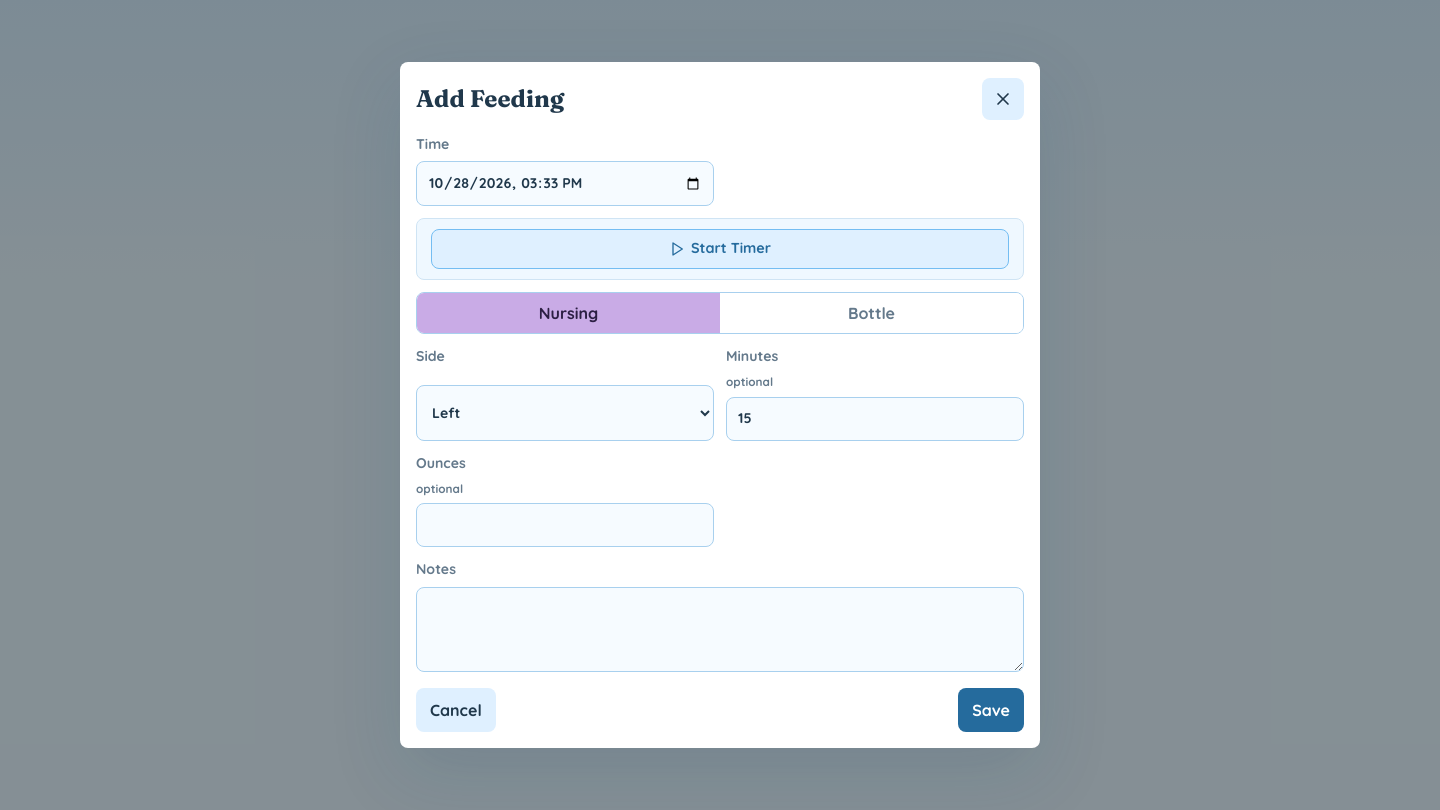
Test: QuickAddDialog › prefills a bottle from the amount saved in Care
What coordinates should you click on to do the following:
click the radio button labelled "Bottle"
I would click on:
 (872, 313)
Its box is top-left (720, 293), bottom-right (1023, 333).
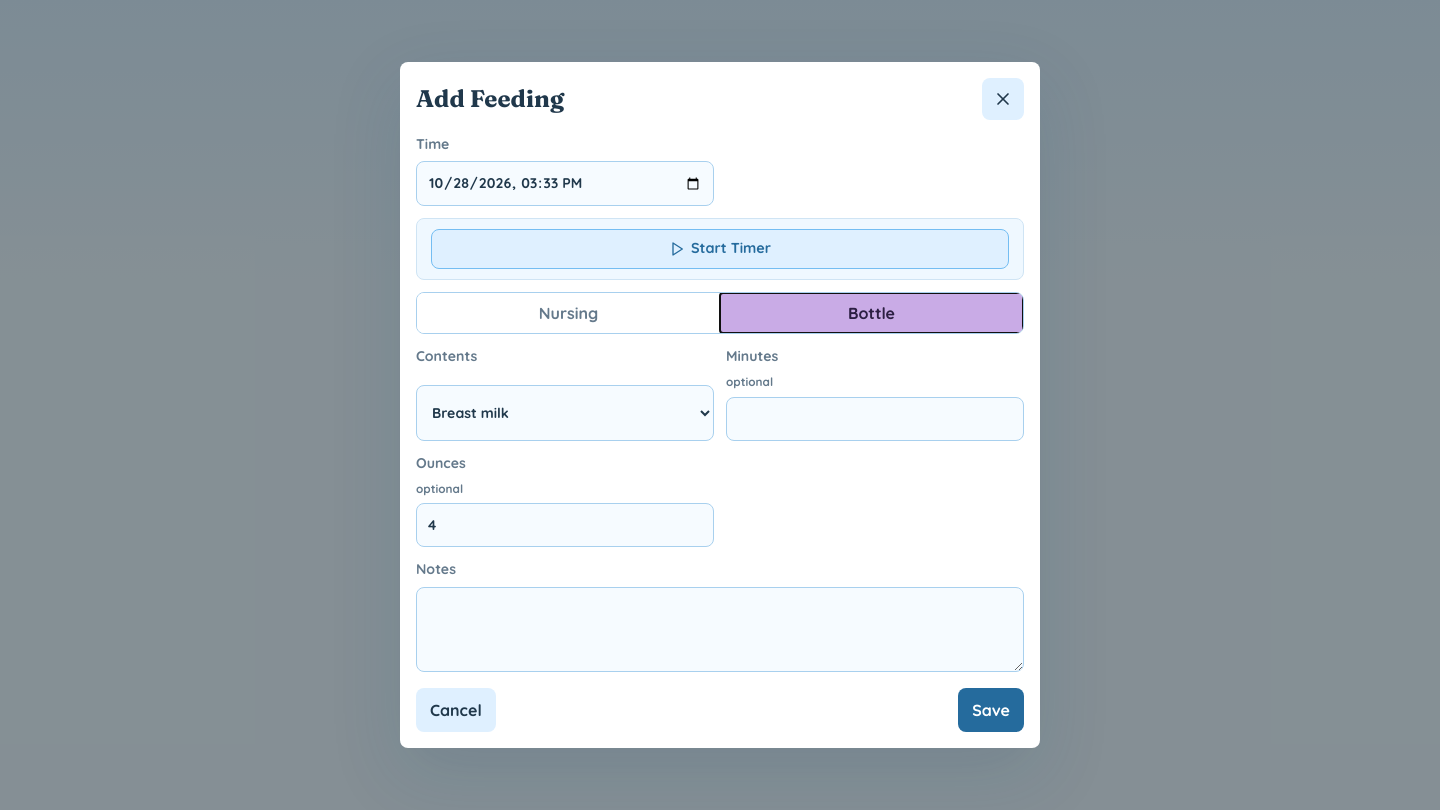
Expected: the number field labelled "Ounces optional" holds "4", top-left (416, 503), bottom-right (714, 547)
